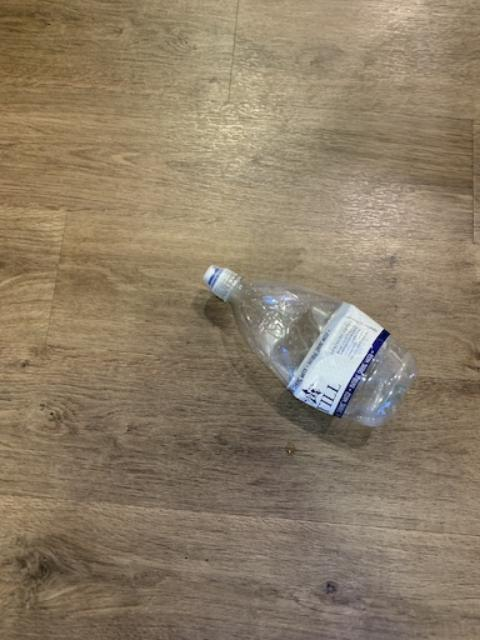plastic: (202, 264, 414, 424)
